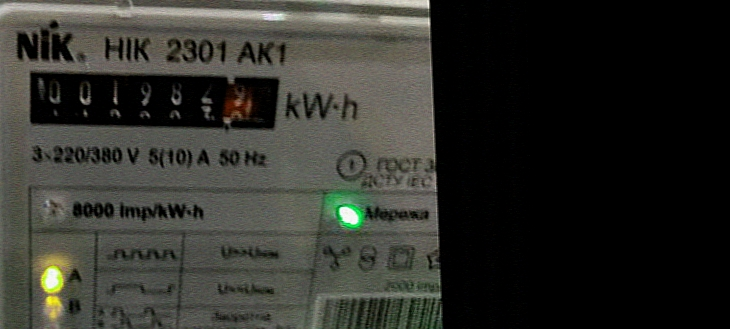0: (76, 76, 94, 105), (46, 74, 63, 103)
1: (108, 74, 121, 104)
2: (198, 74, 217, 103)
8: (168, 76, 185, 105)
9: (229, 78, 250, 107), (137, 76, 153, 106)
screen: (11, 45, 295, 152)
